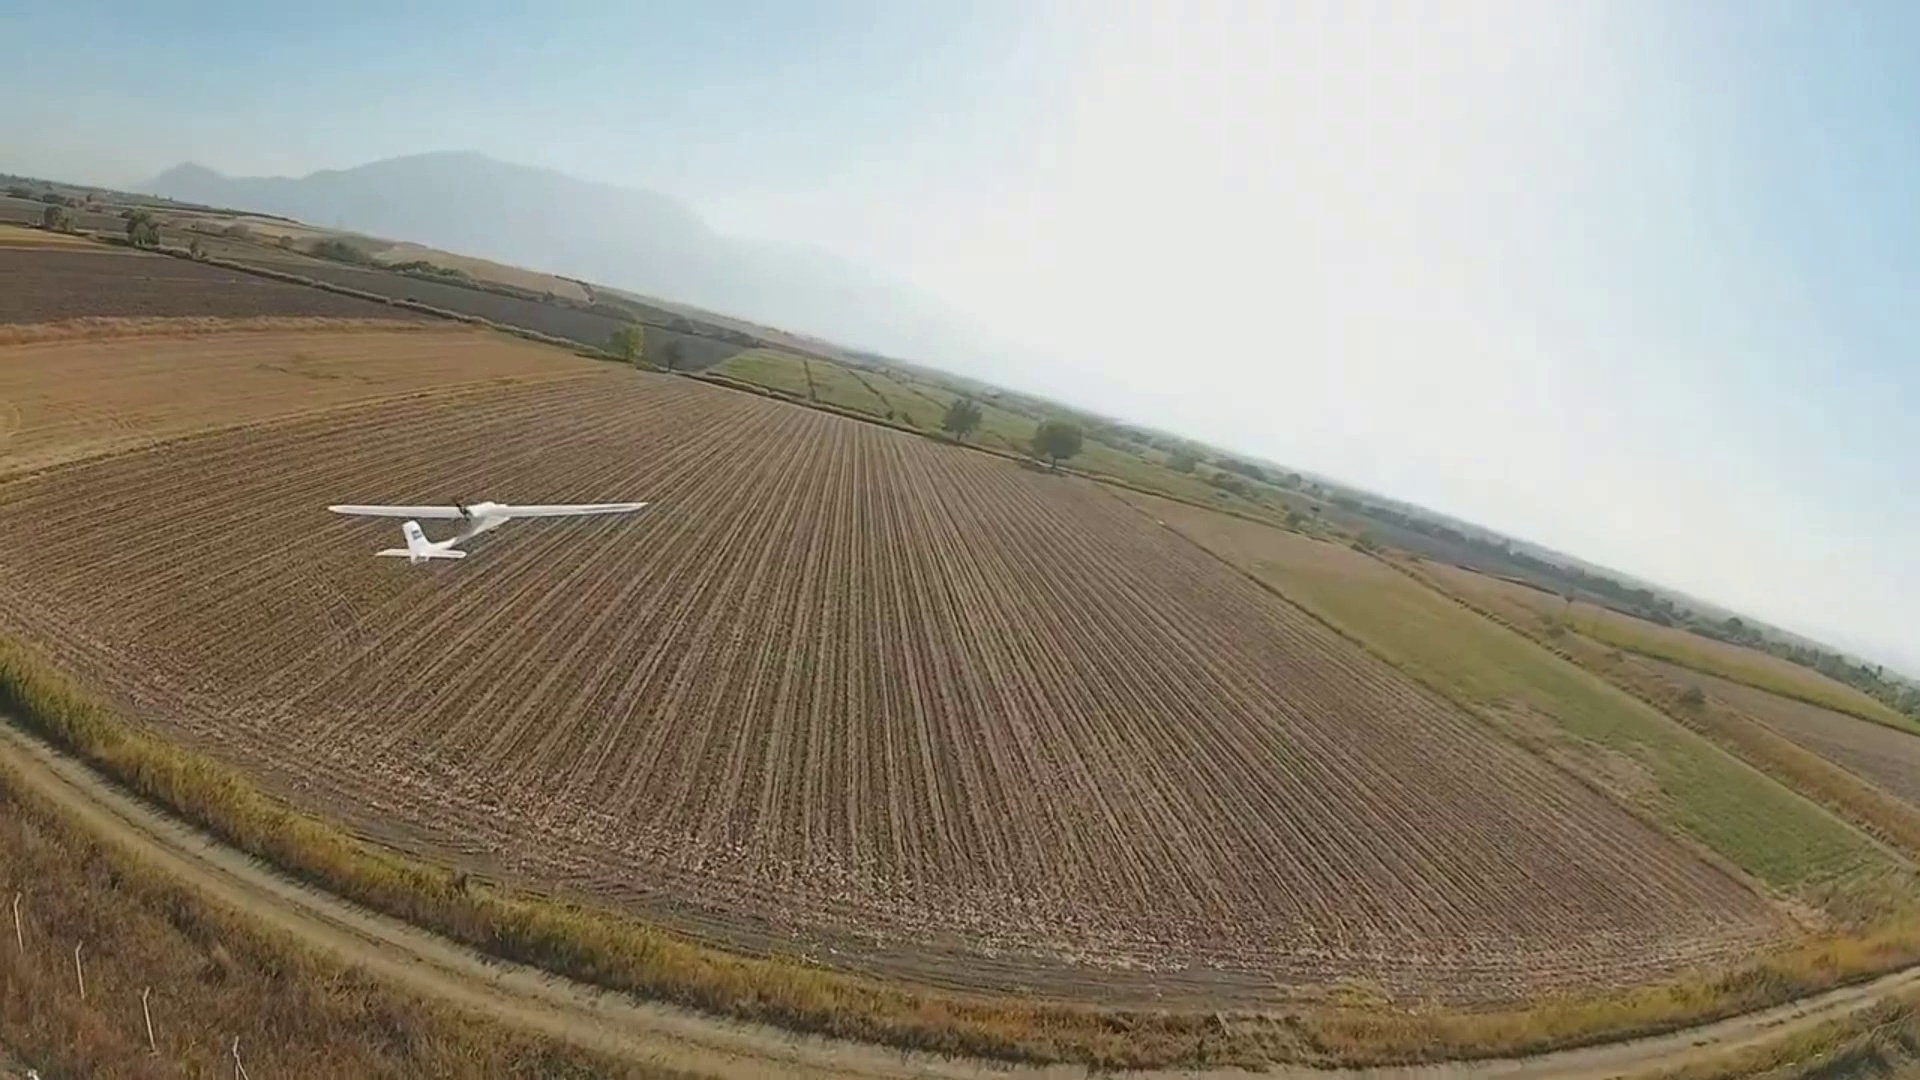airplane: (324, 493, 650, 563)
